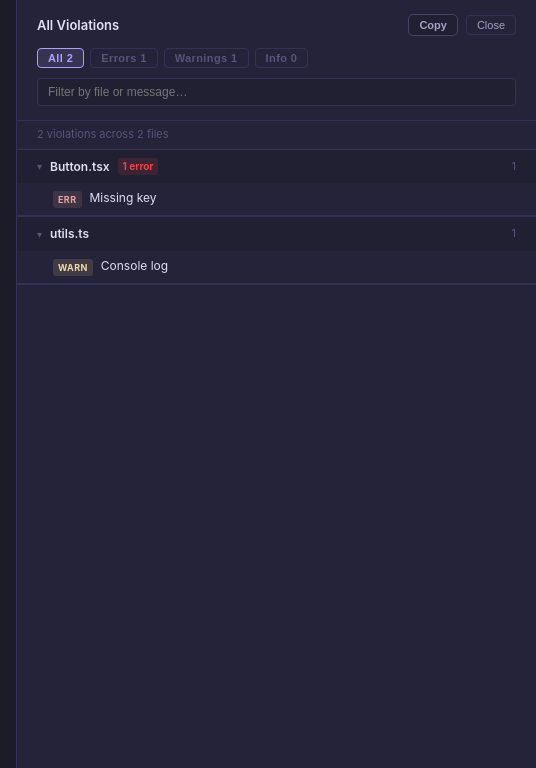
Test: ViolationsPanel › filters violations by file name via search
The width and height of the screenshot is (536, 768).
Type "Button" into the field with placeholder "Filter by file or message…" at (276, 92), box x1=37 y1=78 x2=516 y2=106
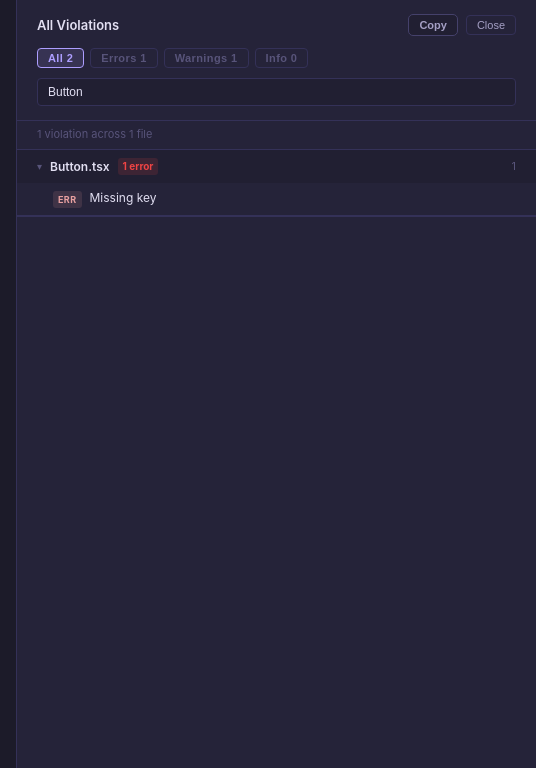
expect the text "Missing key" is shown: met, box x1=90 y1=190 x2=156 y2=205
expect the text "Console log" is gone: met
